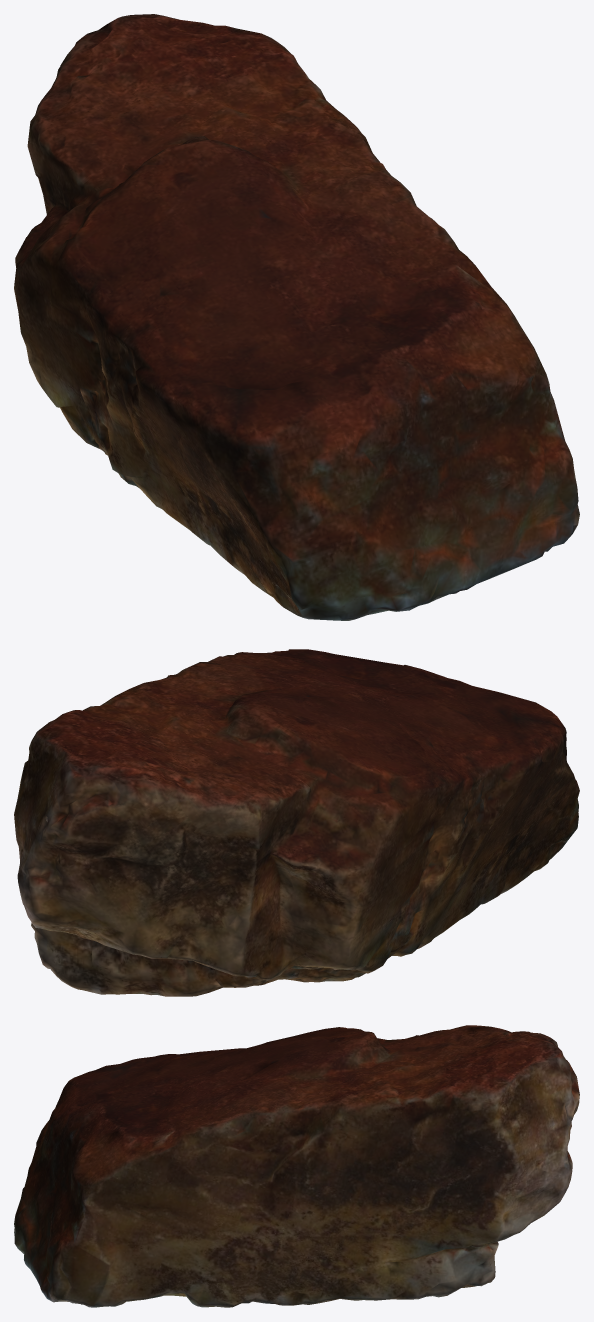
File: rock_07.glb
The picture shows the model from 3 angles, top to bottom: view 1: azimuth 30°, elevation 25°; view 2: azimuth 150°, elevation 25°; view 3: azimuth 270°, elevation 25°; orthographic projection. The views are drawn at different scales.
Parts seen in each view (by area): view 1: rock_07; view 2: rock_07; view 3: rock_07.
Part boxes in pixels (x1,y1,x2,y2): rock_07: (14, 14, 579, 620); rock_07: (14, 649, 579, 996); rock_07: (14, 1025, 579, 1307).
Bounding box in the file's own units: 0.1689 × 0.1437 × 0.3202.
Materials: 1 (1 with a texture image).
